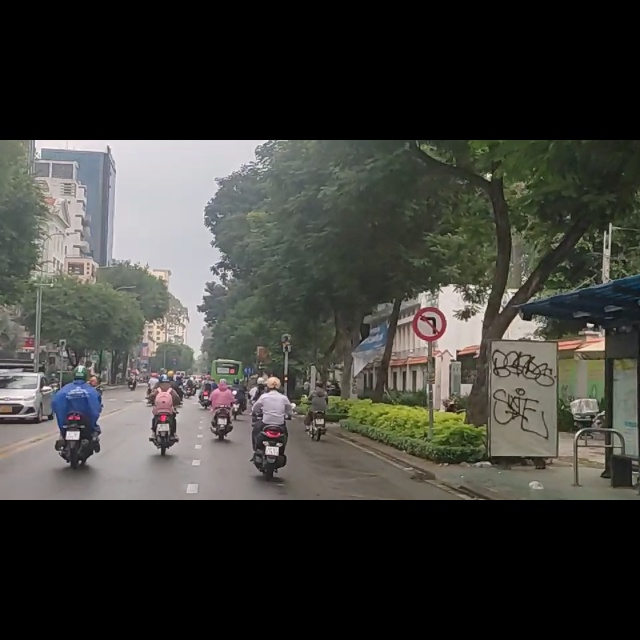bien_cam: (415, 300, 447, 354)
